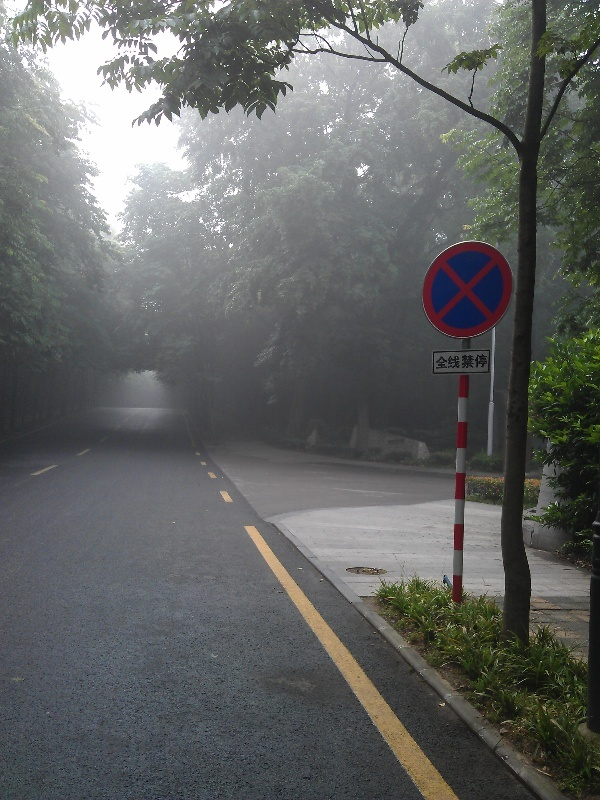text: (449, 354, 464, 370), (465, 354, 480, 370), (436, 354, 448, 370), (481, 354, 489, 370)
